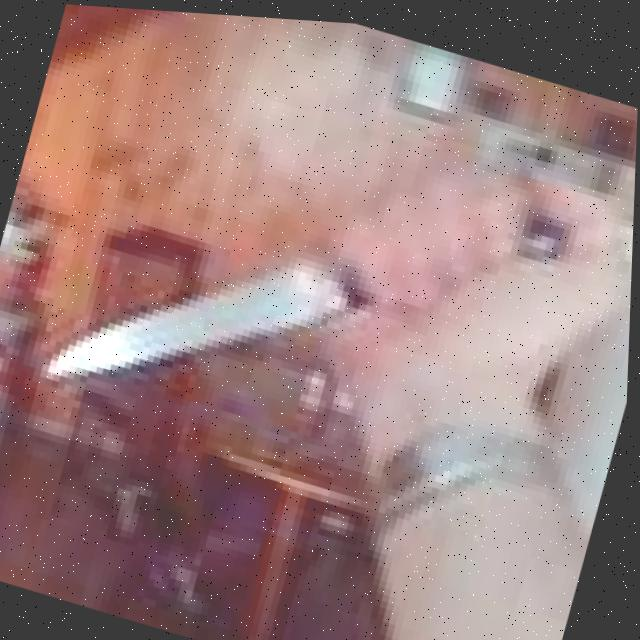knife: (44, 179, 387, 464)
